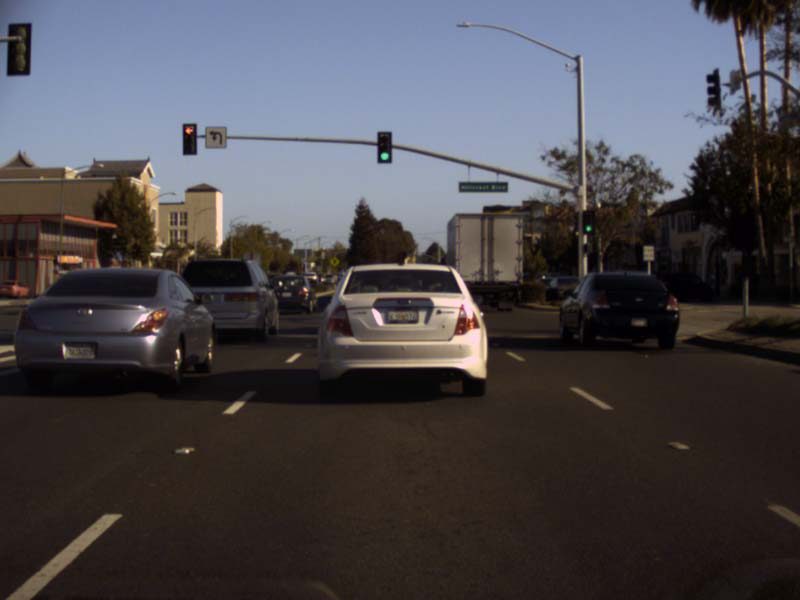Green: (377, 130, 392, 164), (582, 209, 595, 235)
Red: (181, 123, 197, 156)
